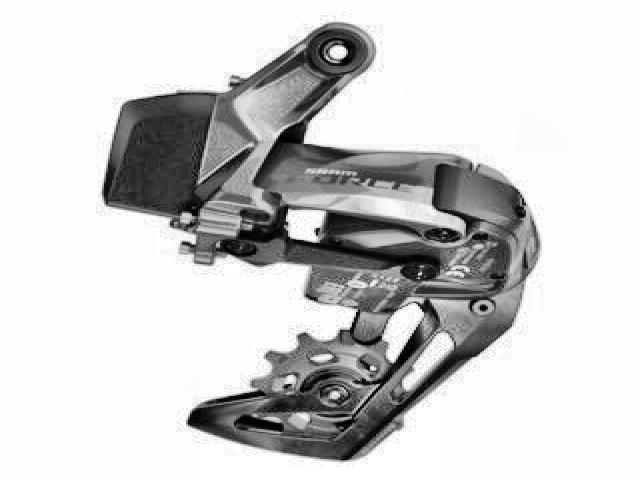rear_derailleur: (100, 18, 544, 466)
